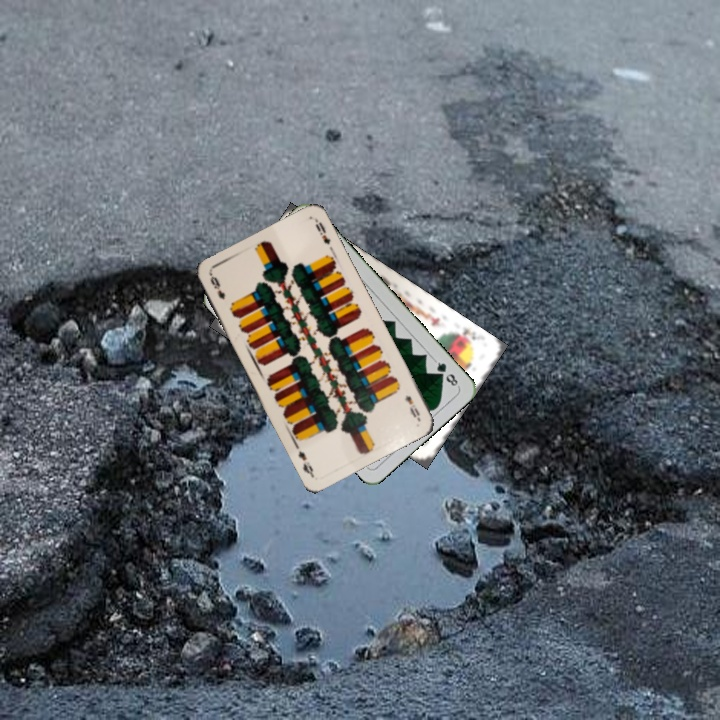E9: (400, 391, 423, 422), (206, 272, 228, 302)
G8: (430, 356, 461, 390)
SK: (458, 324, 484, 343)
